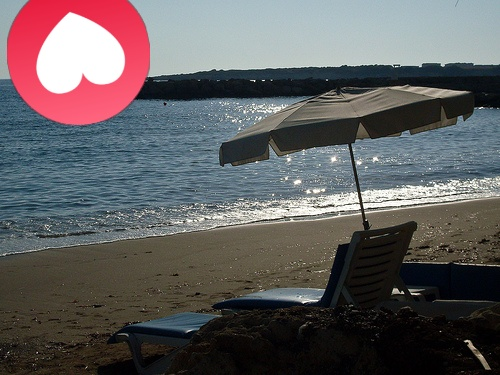love: (7, 0, 150, 125)
